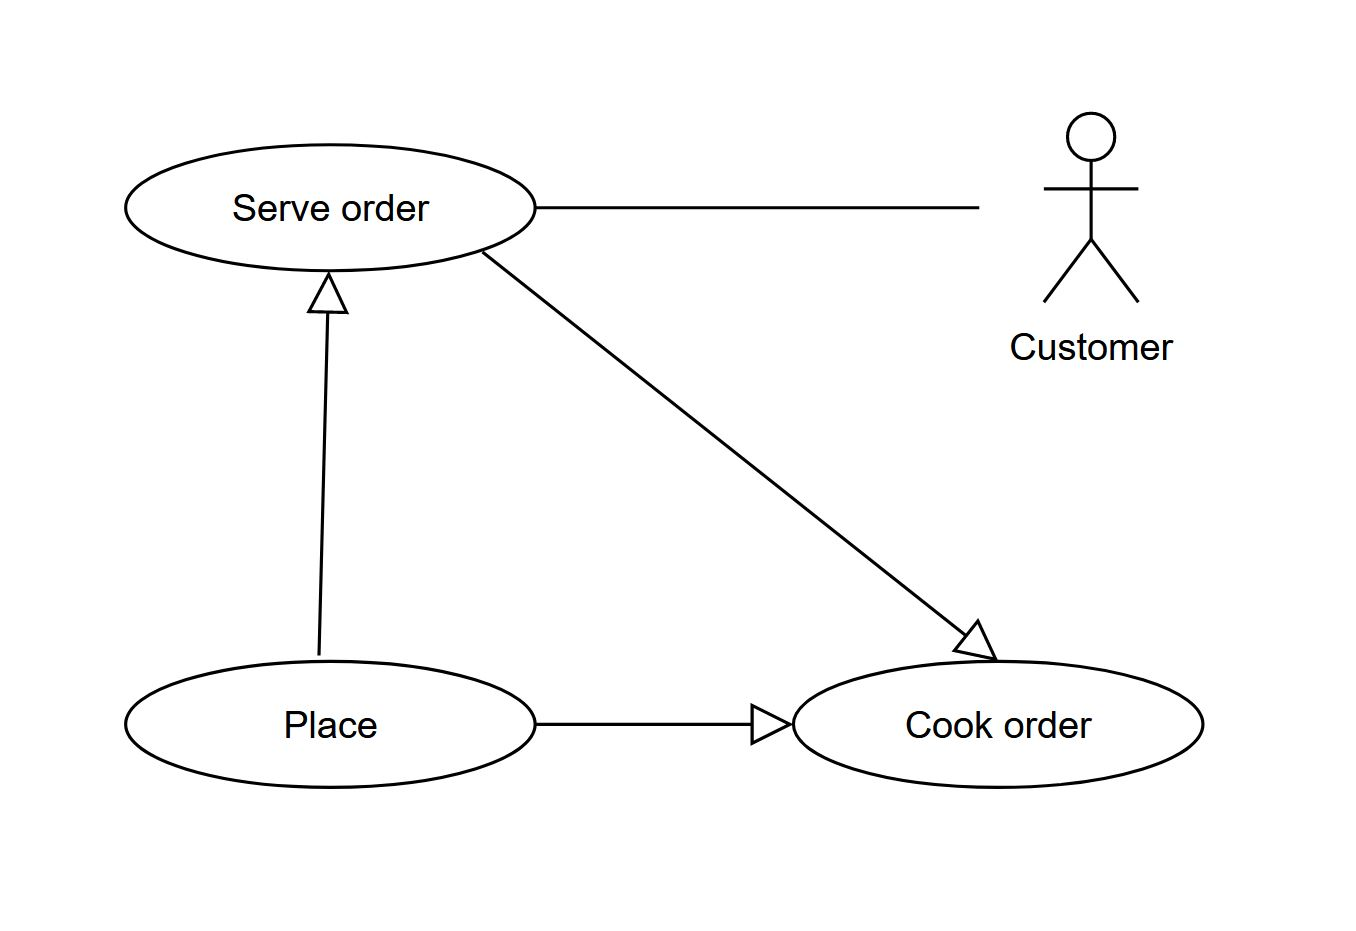actor: (1039, 108, 1143, 306)
association: (536, 184, 981, 223)
generalization: (484, 250, 1002, 659), (302, 269, 351, 657), (536, 701, 791, 746)
text: (903, 698, 1093, 755), (229, 185, 443, 233), (1005, 326, 1185, 374), (265, 705, 400, 754)
use_case: (123, 140, 537, 273), (791, 657, 1204, 788), (123, 658, 535, 789)
